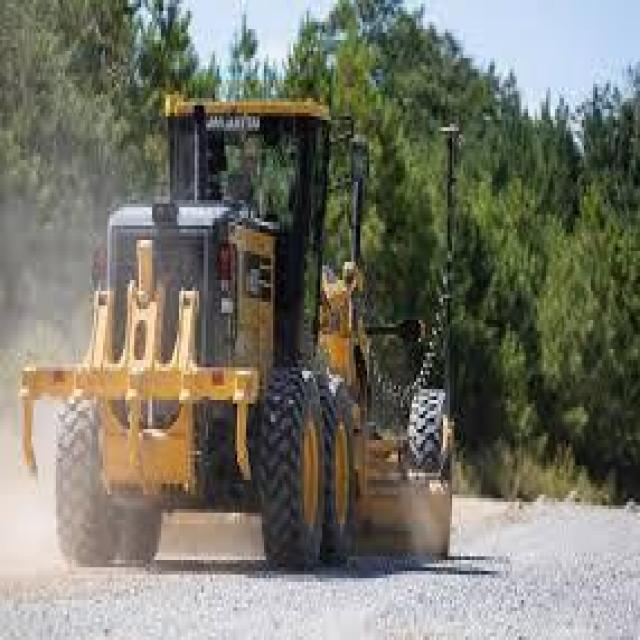Grader: (9, 47, 488, 564)
